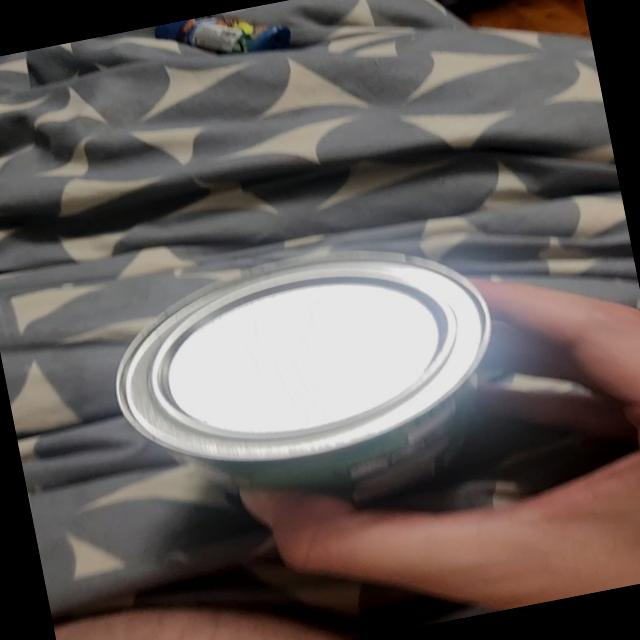nestle_milo_tin: (117, 252, 491, 502)
